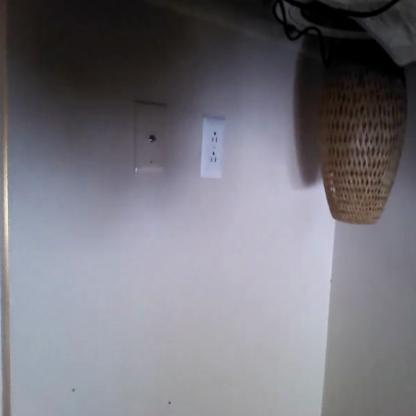OUTLET: (198, 116, 226, 178)
